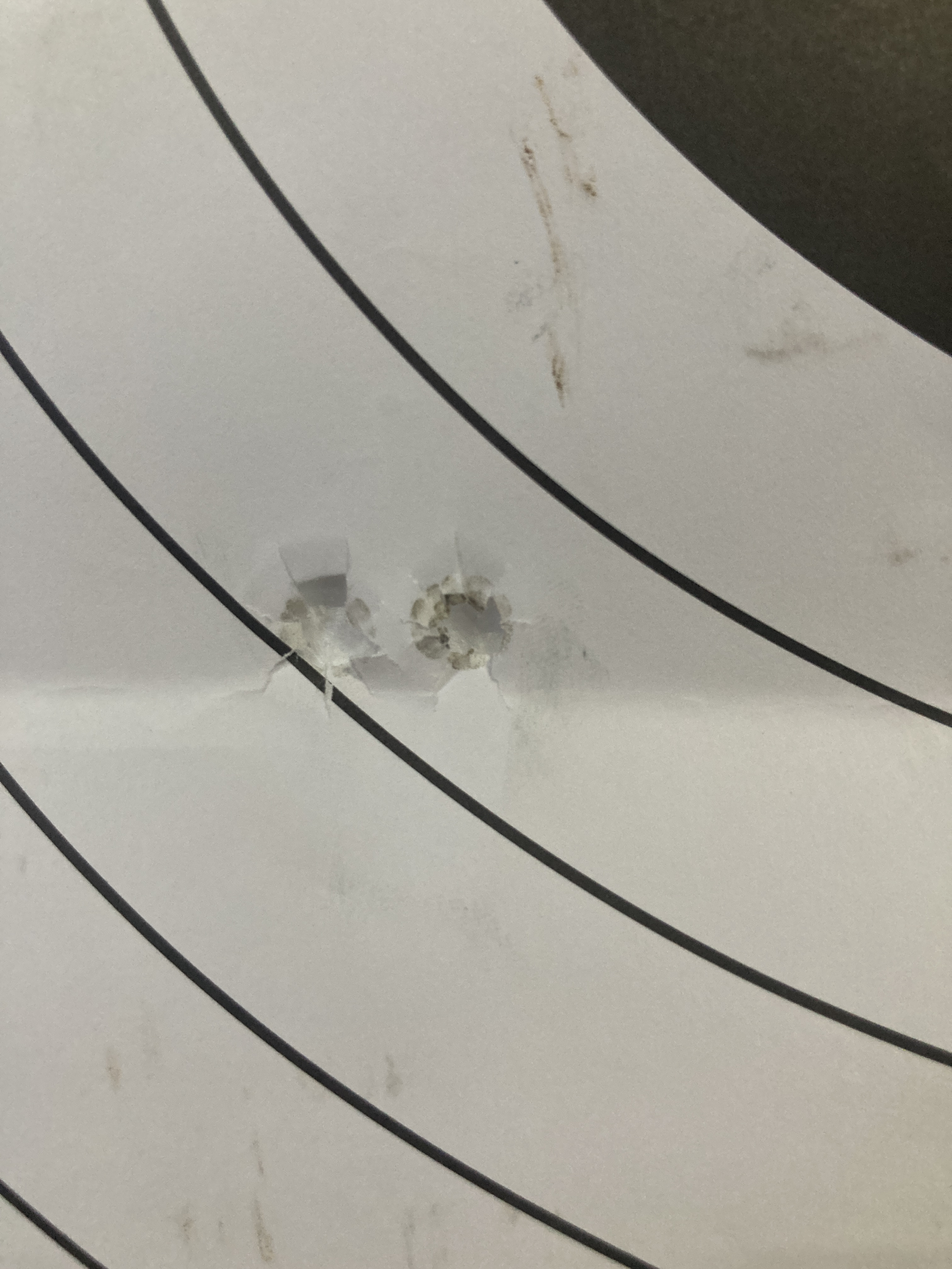hole: (233, 529, 403, 711), (412, 535, 548, 696)
